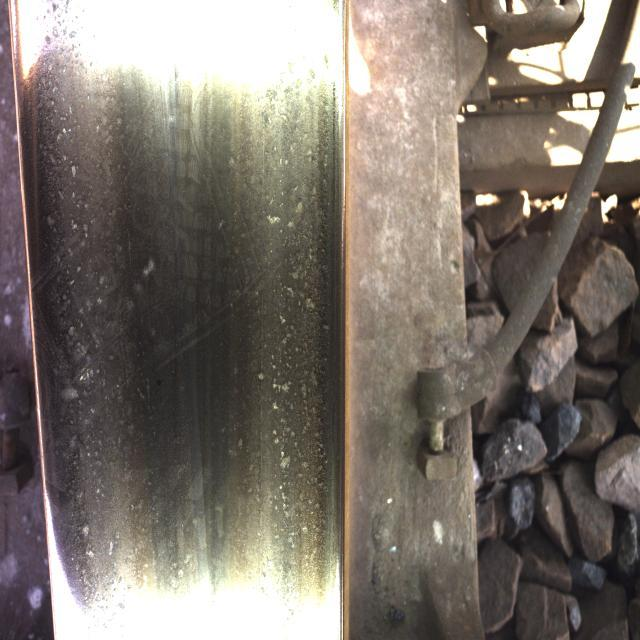scar: (40, 28, 130, 542), (250, 42, 329, 588)
